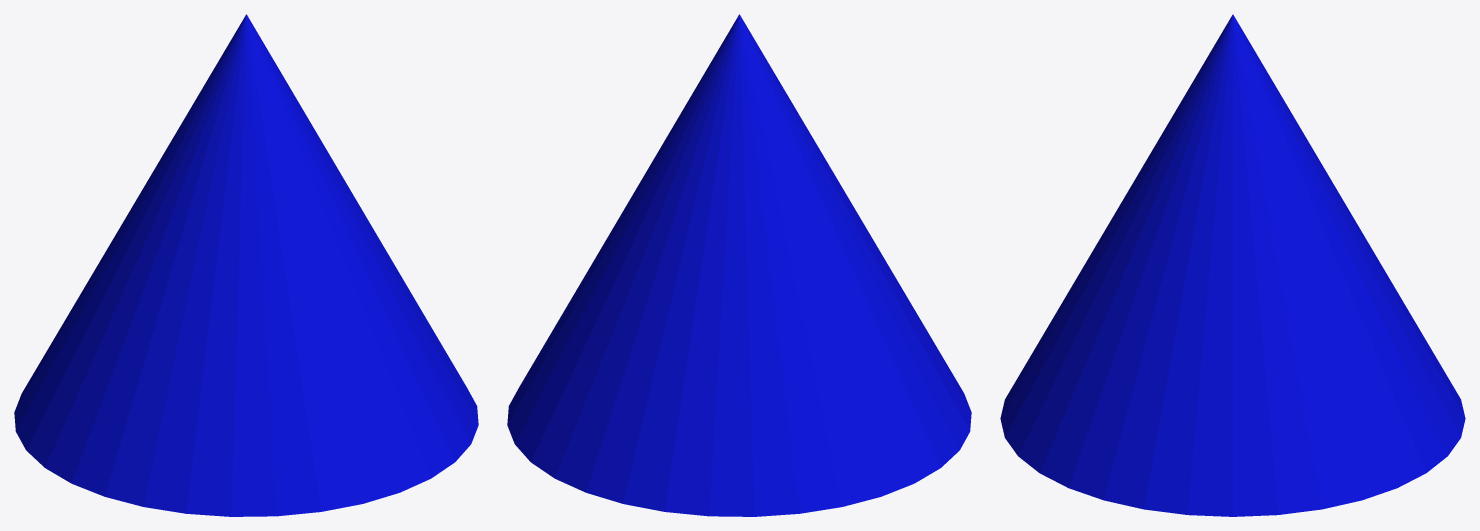
3 renders of one model, left to right at view 1: azimuth 30°, elevation 25°; view 2: azimuth 150°, elevation 25°; view 3: azimuth 270°, elevation 25°, orthographic.
Visible parts, largest first — view 1: Cone; view 2: Cone; view 3: Cone.
Part boxes in pixels (bbox=[...]): Cone: bbox=[14, 14, 478, 516]; Cone: bbox=[507, 14, 971, 516]; Cone: bbox=[1000, 14, 1465, 516].
Size of the model in its own units: 2 by 1.92 by 2.
